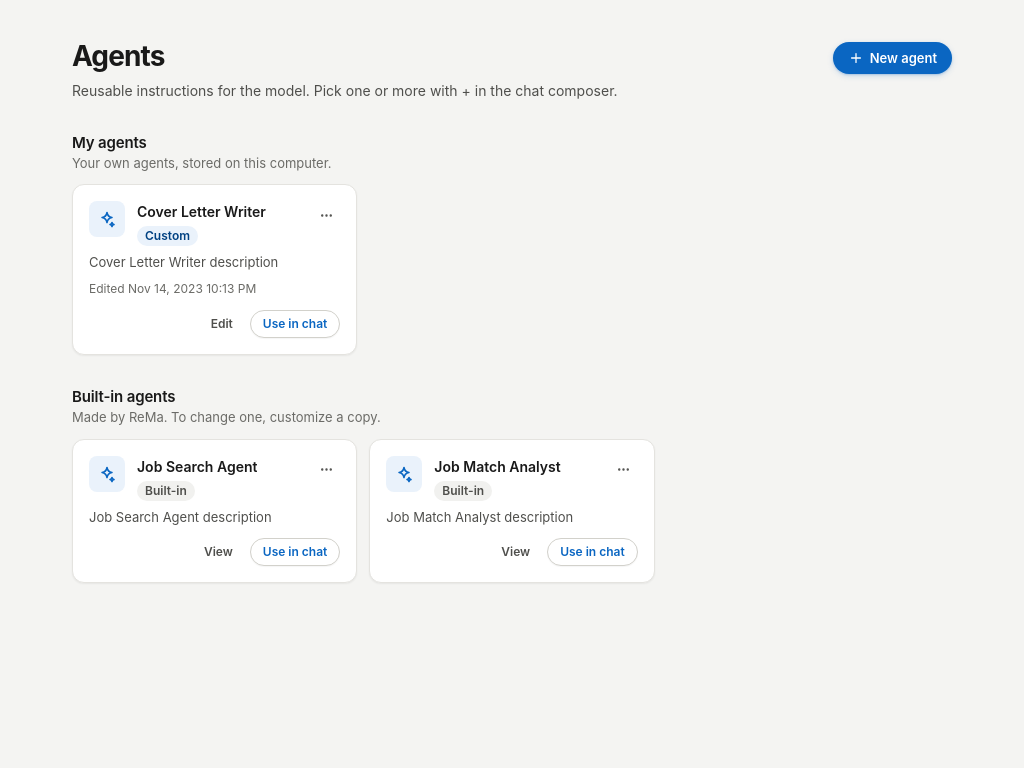
Test: Agents page › customizing a built-in agent makes an editable copy
Click the button "View" below "Job Search Agent description": point(218, 552) [191,538,246,566]
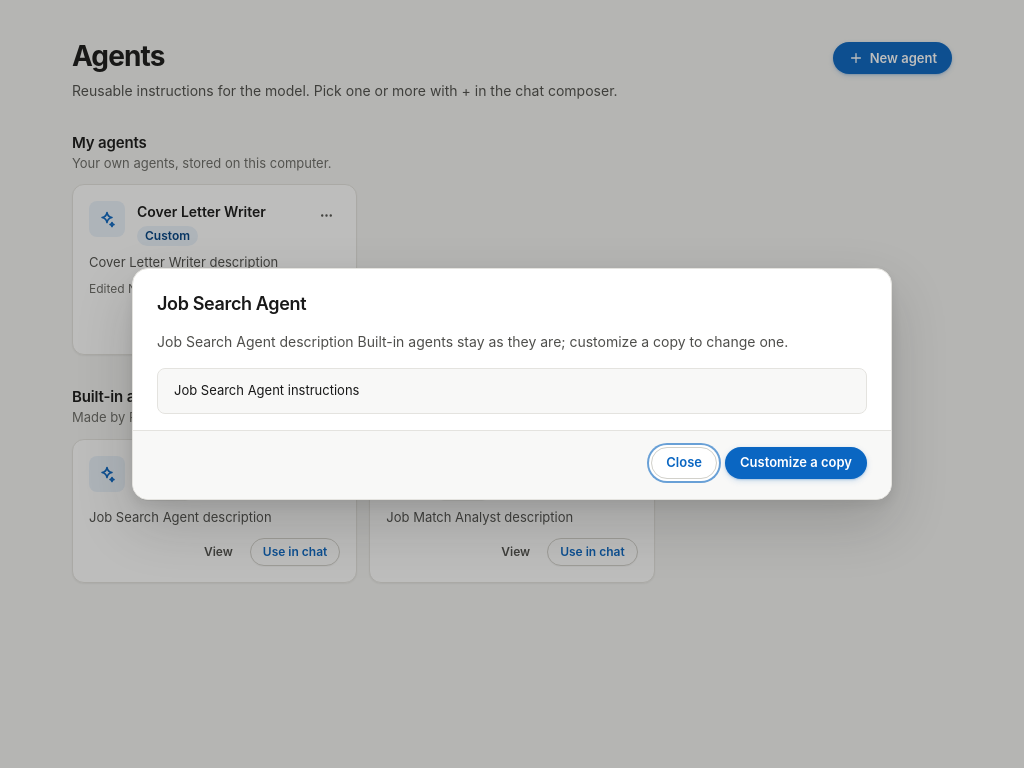
Check: the text "Job Search Agent instructions" is shown, box [157,368,867,414]
Click the button "Customize a copy": point(796, 462) [725,446,867,478]
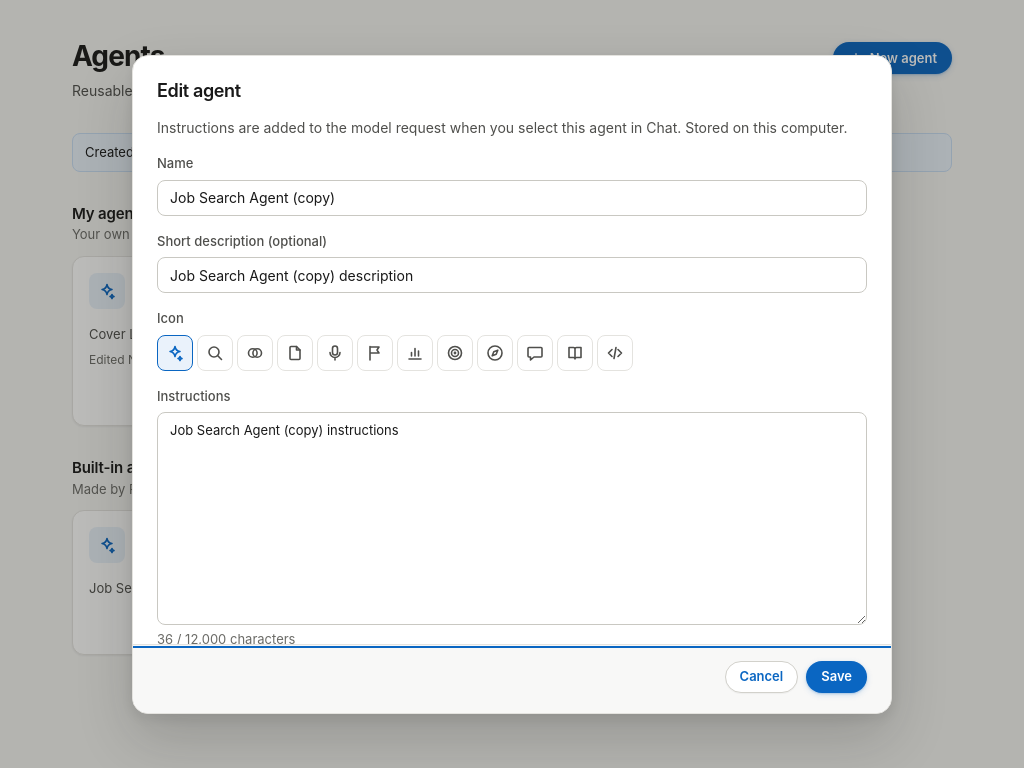
Check: the dialog "Edit agent" is shown
